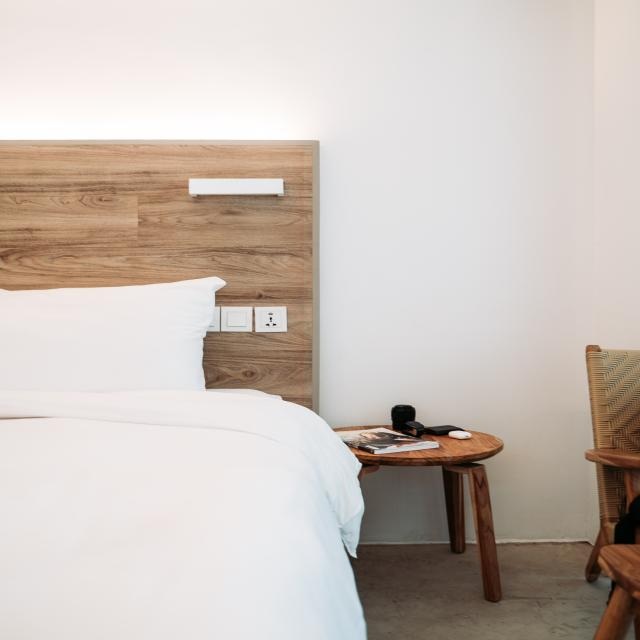floor: (345, 541, 611, 640), (623, 617, 636, 640)
